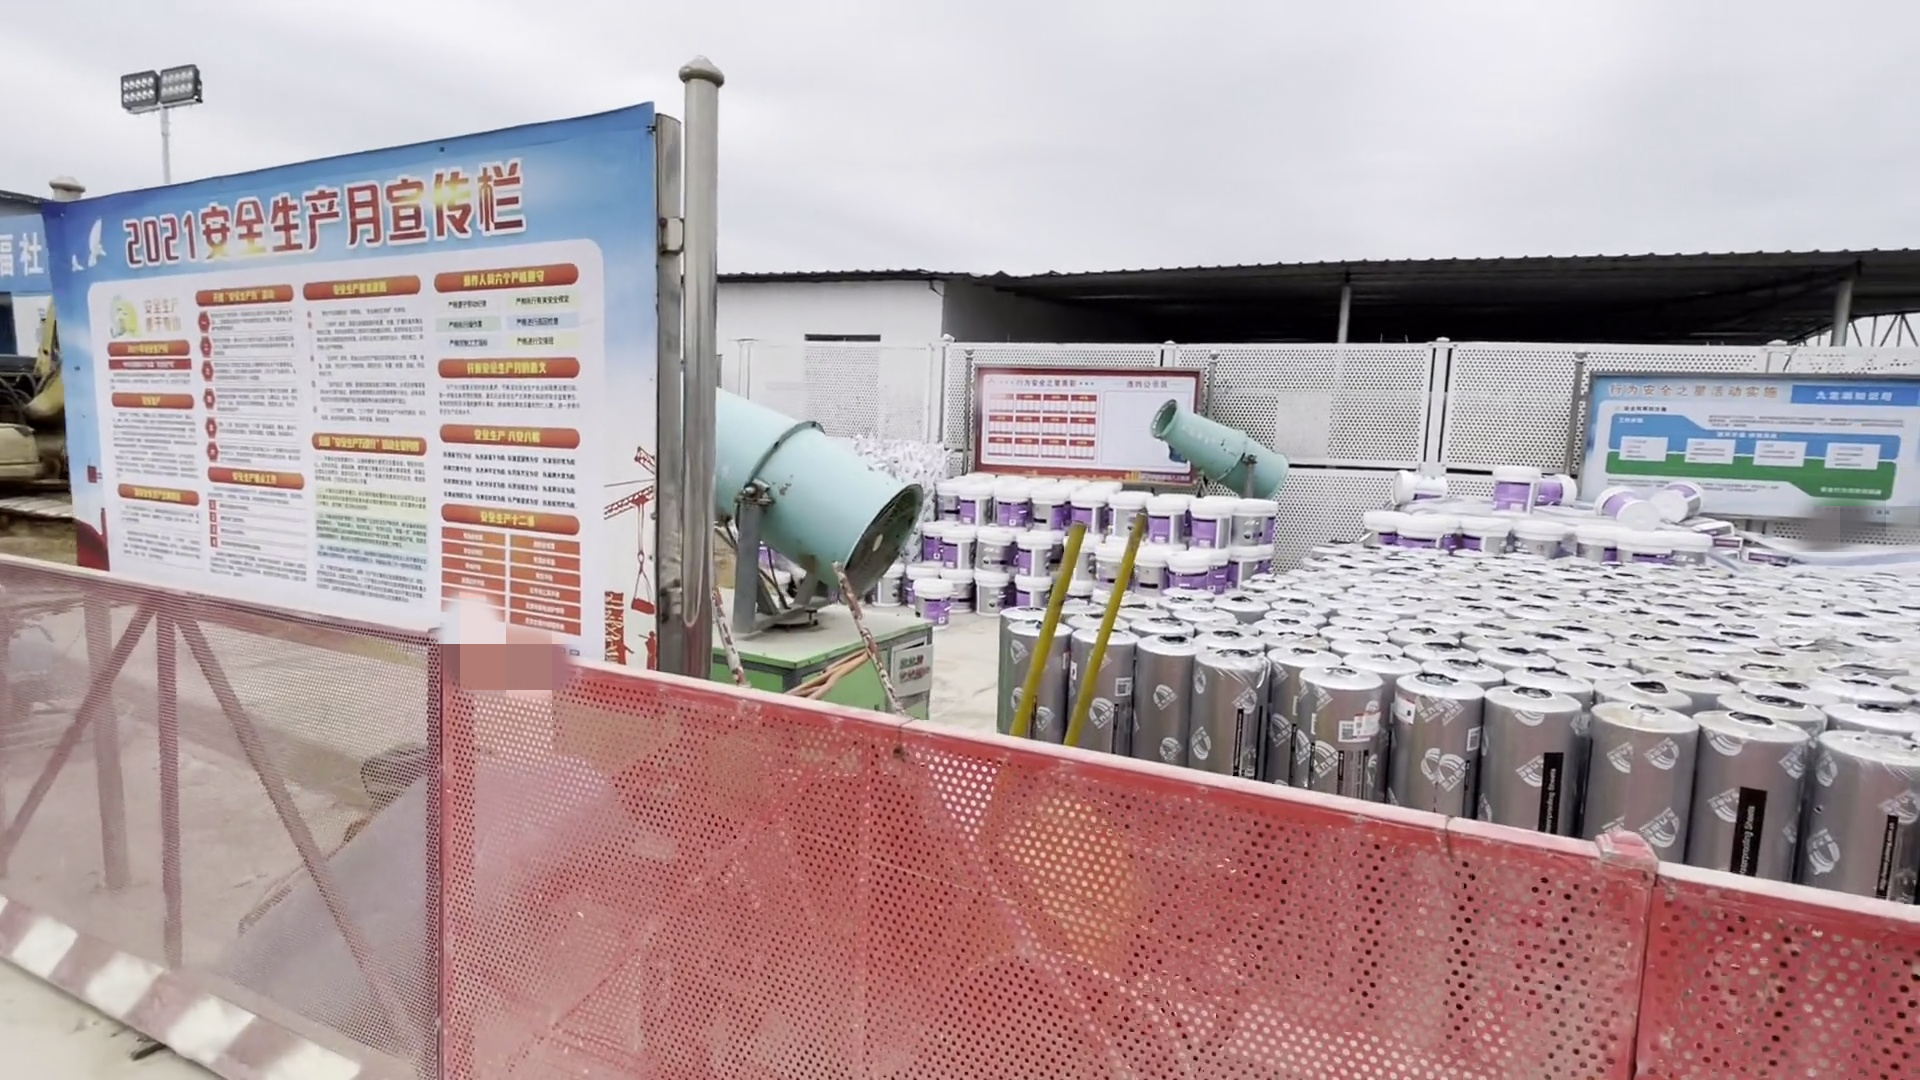fence: (4, 559, 1920, 1069)
